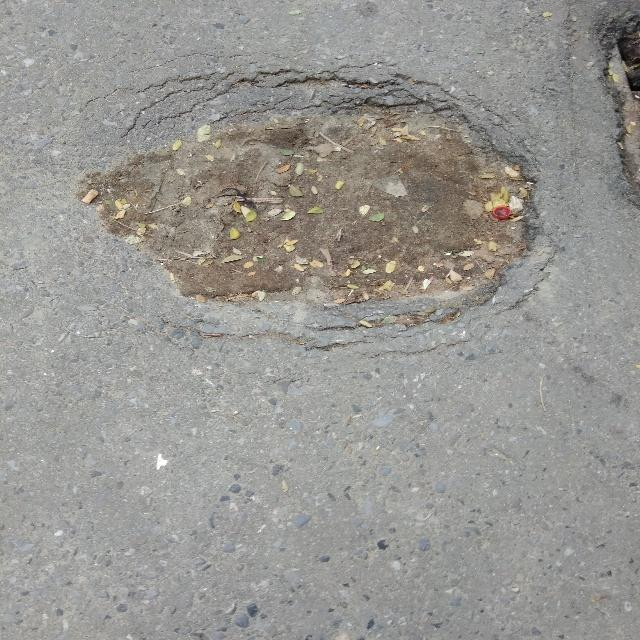Pothole: (115, 82, 567, 292)
